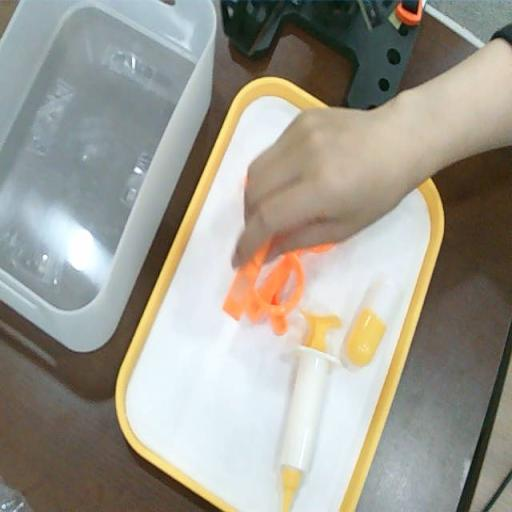hospital: (241, 104, 392, 256)
